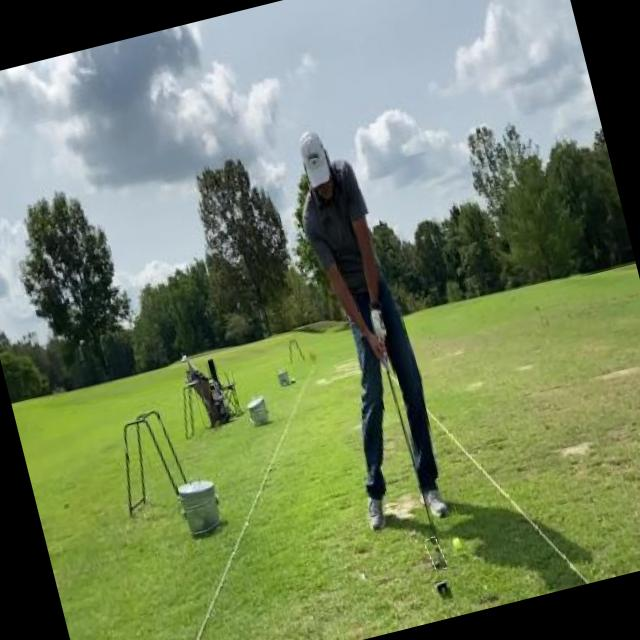club head: (425, 536, 447, 572)
